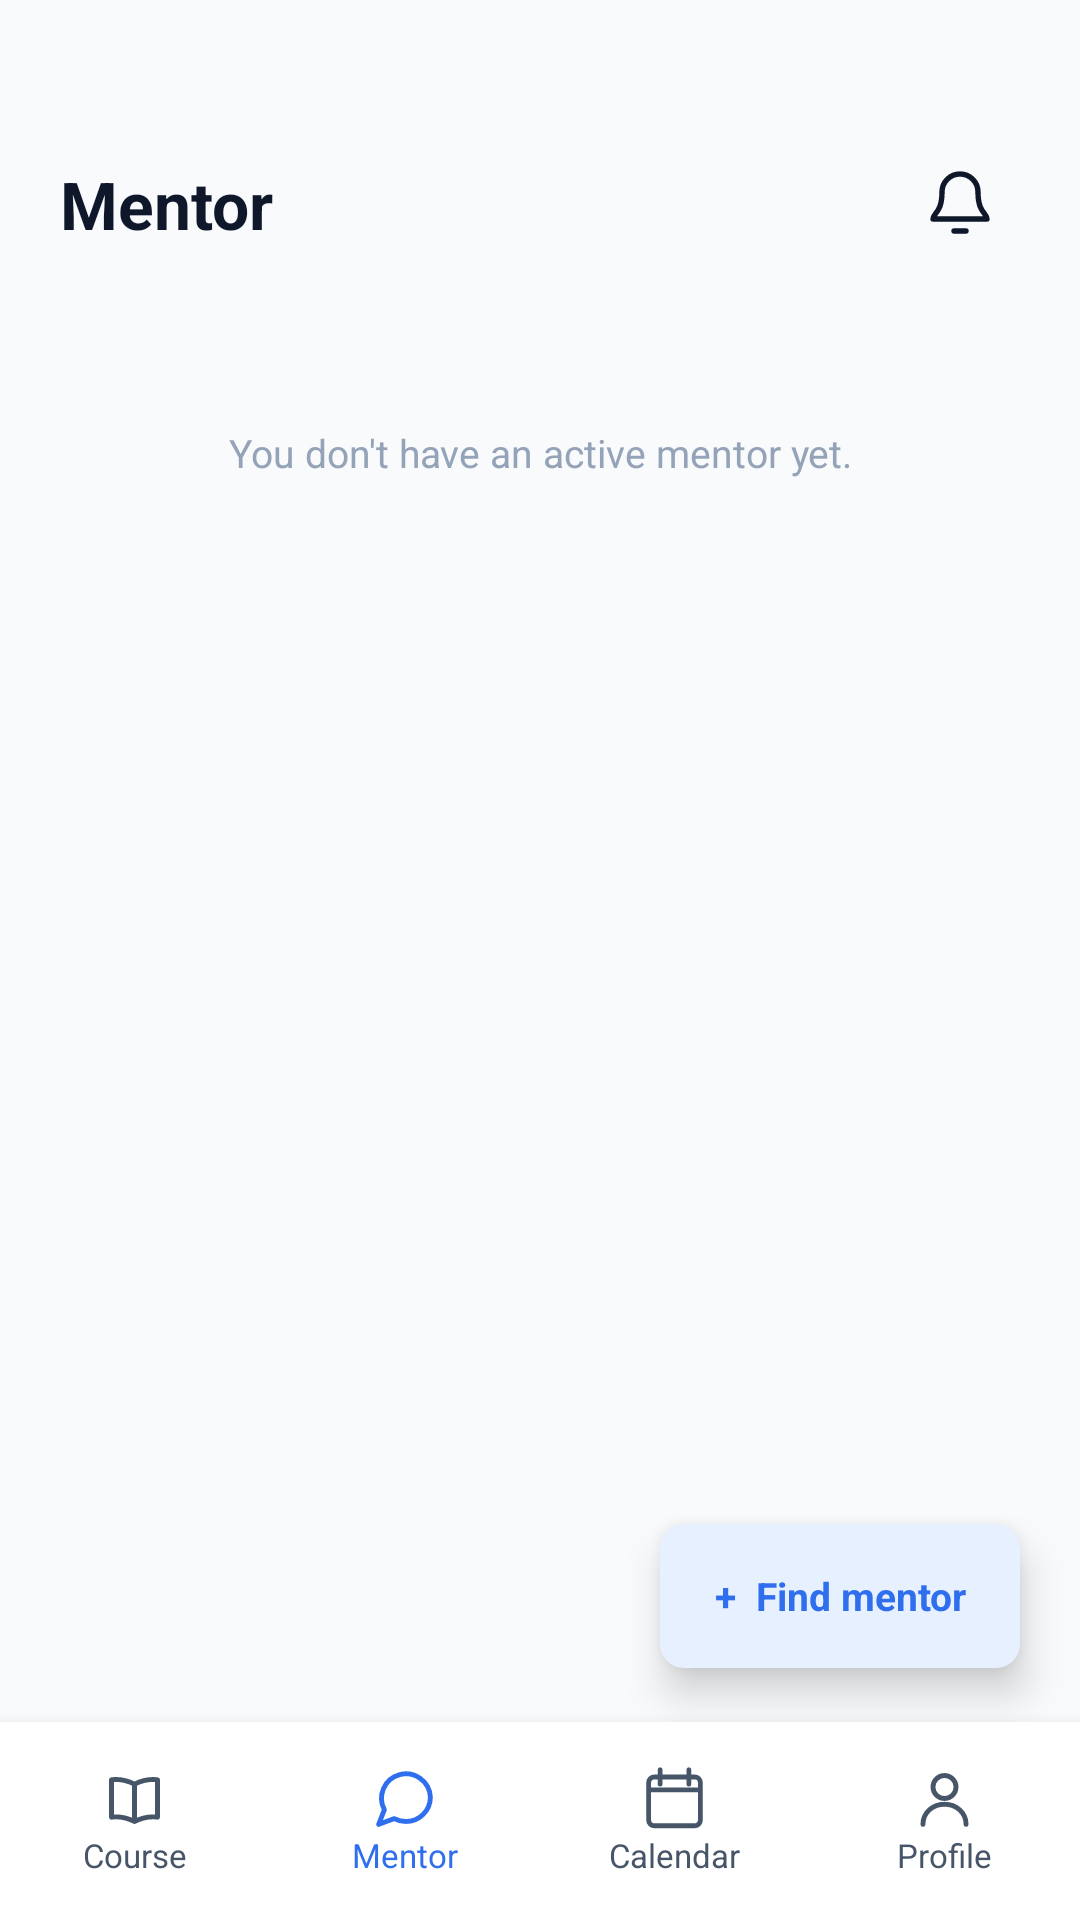

Icons on this 1080 x 1920 Android screen, each with the point to tap as point (x, y):
notification: point (960, 202)
